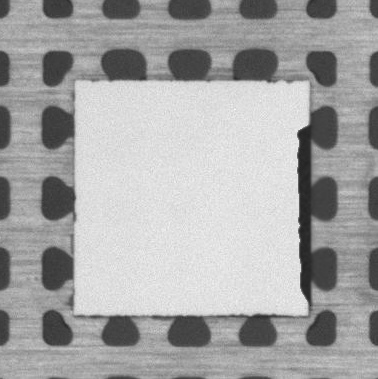DIE_BROKEN: (295, 125, 313, 301)
